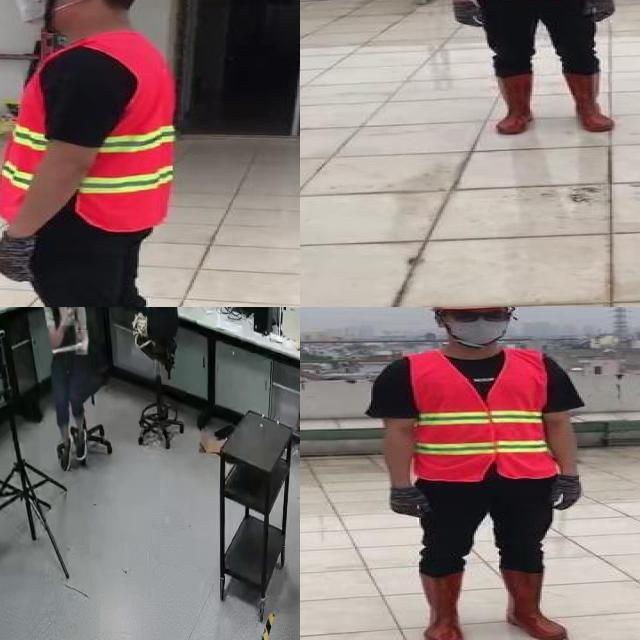boots: (497, 568, 568, 640), (560, 71, 619, 132), (417, 570, 468, 640), (492, 73, 540, 134)
face_mask: (439, 309, 513, 346), (2, 0, 60, 25)
glasses: (446, 308, 513, 326)
hand_glove: (0, 231, 46, 281), (384, 487, 434, 521), (549, 476, 581, 511), (448, 3, 484, 29), (583, 0, 615, 22)
hand_noglove: (75, 330, 89, 356), (59, 307, 75, 326)
person: (365, 307, 602, 640), (0, 0, 196, 307), (429, 0, 621, 135), (39, 307, 96, 470)
shoes: (72, 419, 90, 467), (55, 429, 73, 475)
vest: (0, 31, 187, 233), (410, 347, 556, 479)
